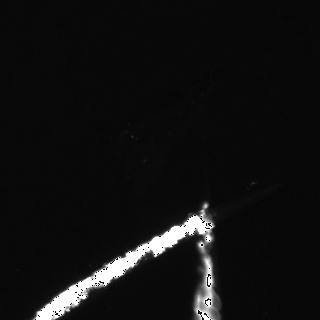embryo: (197, 285, 222, 310)
